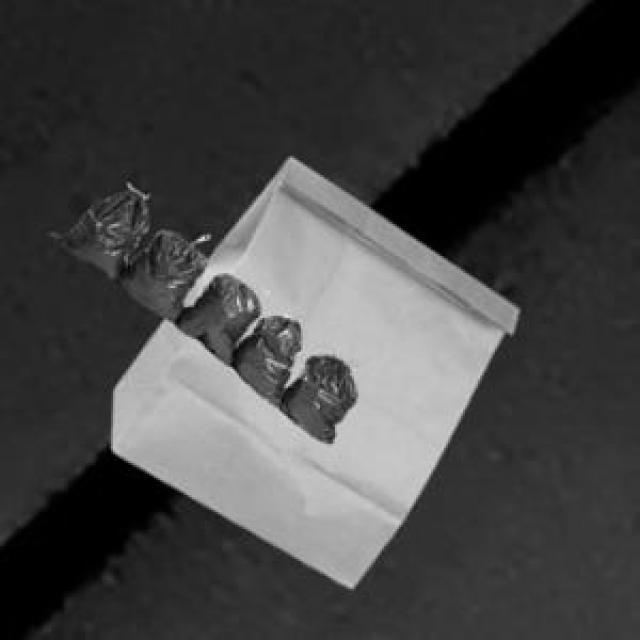miscellaneous trash: (47, 188, 352, 440)
paper: (109, 154, 514, 585)
